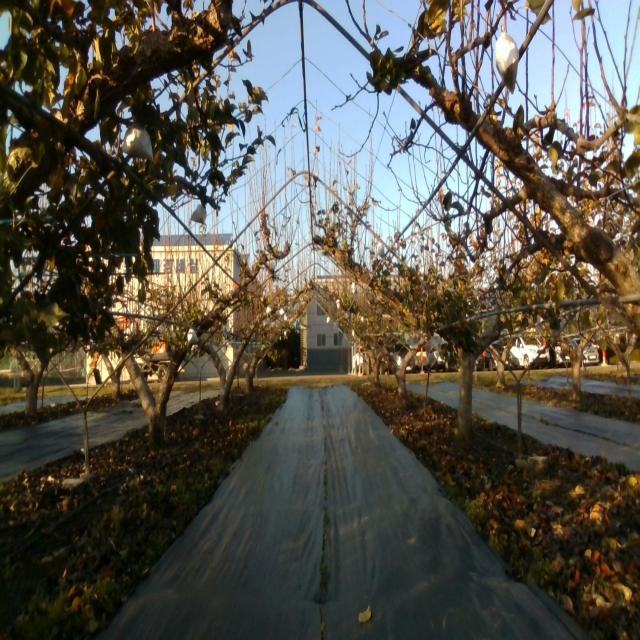pearbags: (494, 24, 520, 96), (122, 122, 154, 160), (190, 204, 208, 226)
